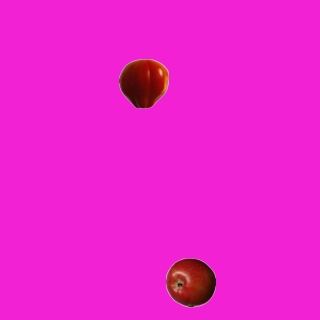Apple Braeburn: (165, 257, 215, 307)
Tomato 1: (118, 58, 168, 108)
